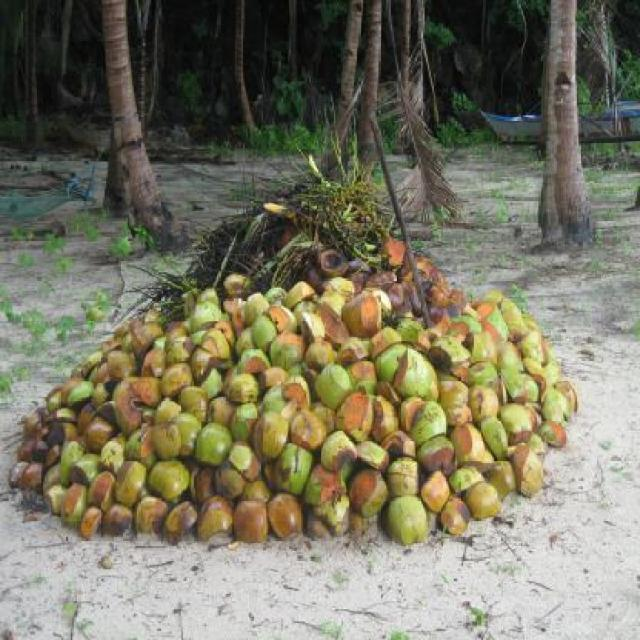Coconut: (12, 228, 578, 550)
